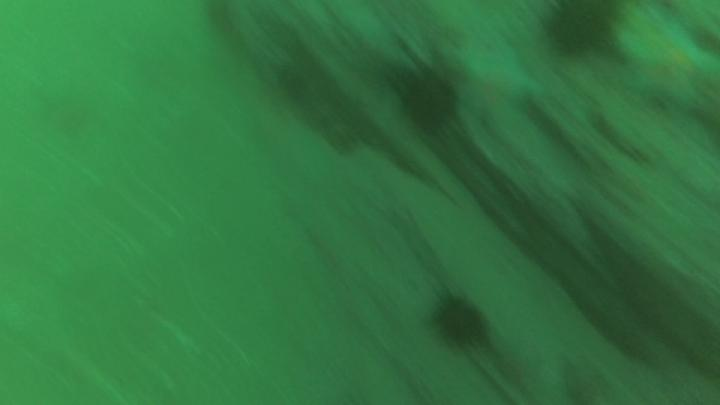echinus: (531, 3, 635, 77), (391, 61, 466, 136), (424, 285, 499, 357)
starfish: (617, 19, 720, 117), (456, 40, 543, 123)
